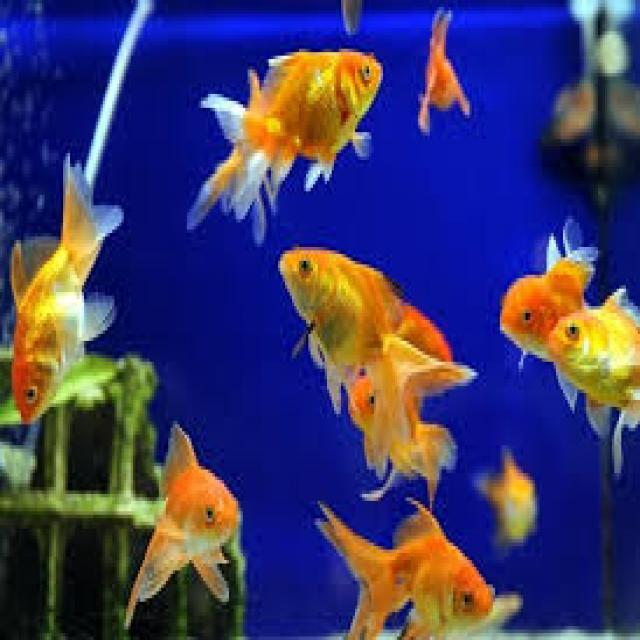goldfish: (5, 164, 132, 436), (276, 242, 460, 424), (196, 44, 388, 199), (312, 498, 518, 631), (548, 294, 638, 430)
